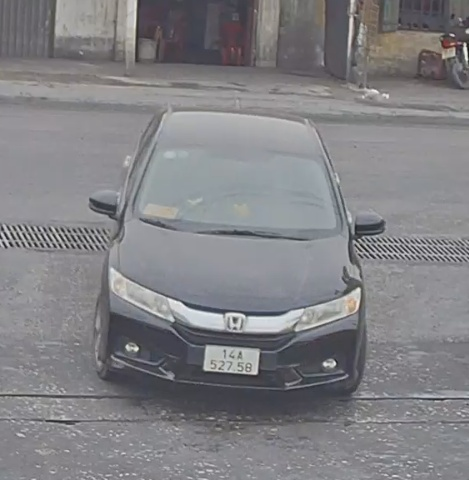vehicle plate: (201, 341, 259, 376)
